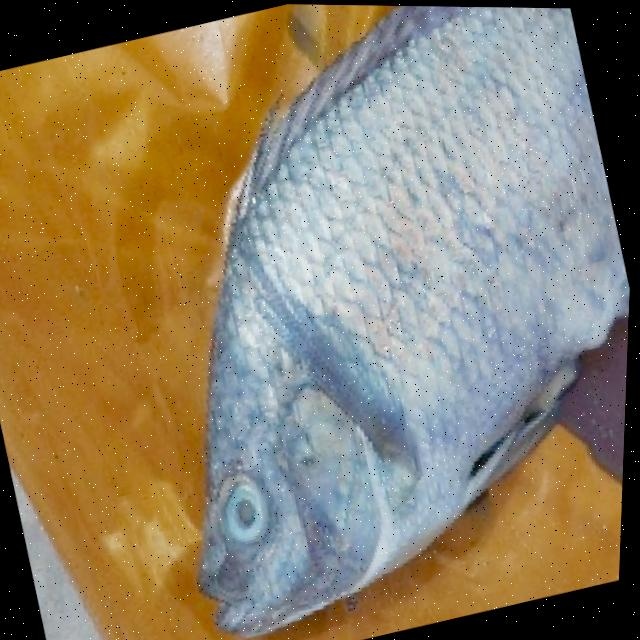Non-Fresh: (60, 40, 607, 640), (208, 461, 301, 567)
